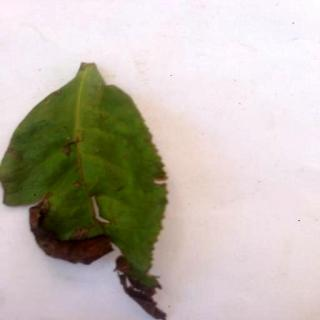Brown Blight: (1, 63, 169, 320)
